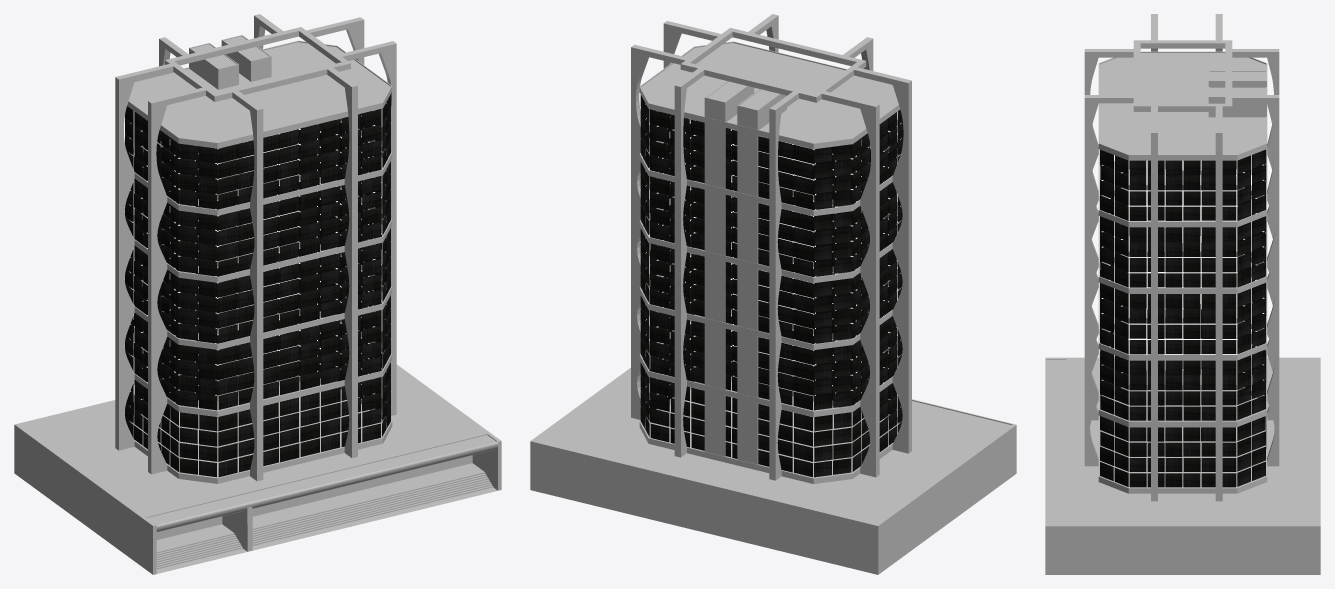
The picture shows the model from 3 angles, left to right: view 1: azimuth 30°, elevation 25°; view 2: azimuth 150°, elevation 25°; view 3: azimuth 270°, elevation 25°; orthographic projection.
Visible parts, largest first — view 1: BC-015; view 2: BC-015; view 3: BC-015.
Part boxes in pixels (bbox=[...]): BC-015: bbox=[14, 14, 501, 574]; BC-015: bbox=[530, 14, 1016, 574]; BC-015: bbox=[1045, 14, 1320, 574].
Size of what is drawn, in the model's own units: 52.2 by 60.11 by 36.
